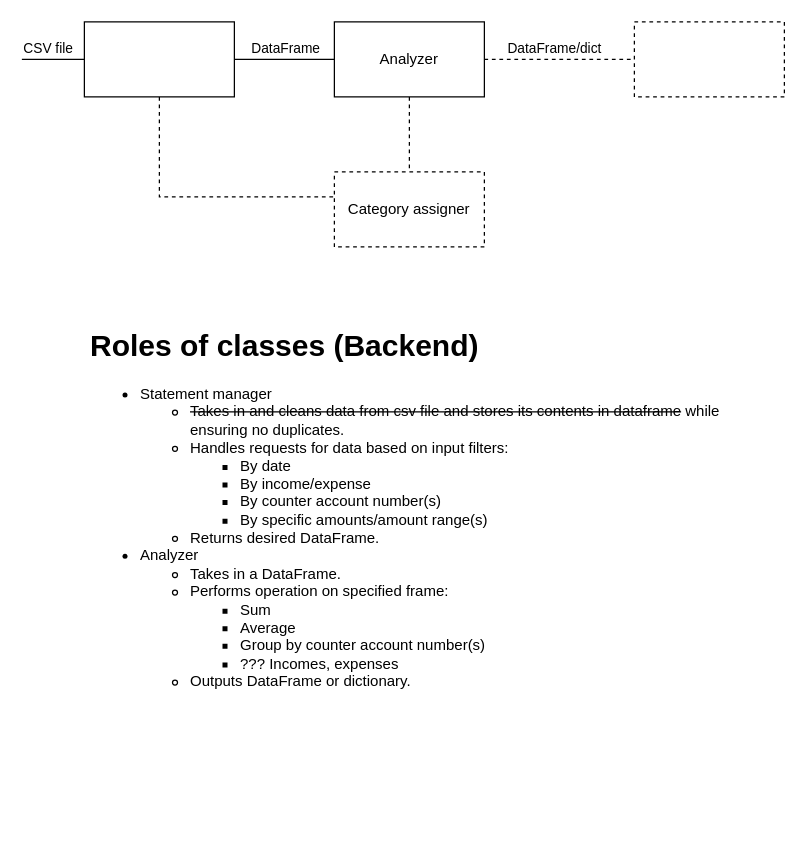
This 806x856 diagram has some shape labels left out. Here are the shapes that lost their labels. From the top down, the centre of each, then its label:
At point 158,59: "Statement manager".
At point 708,59: "Visualizer".
